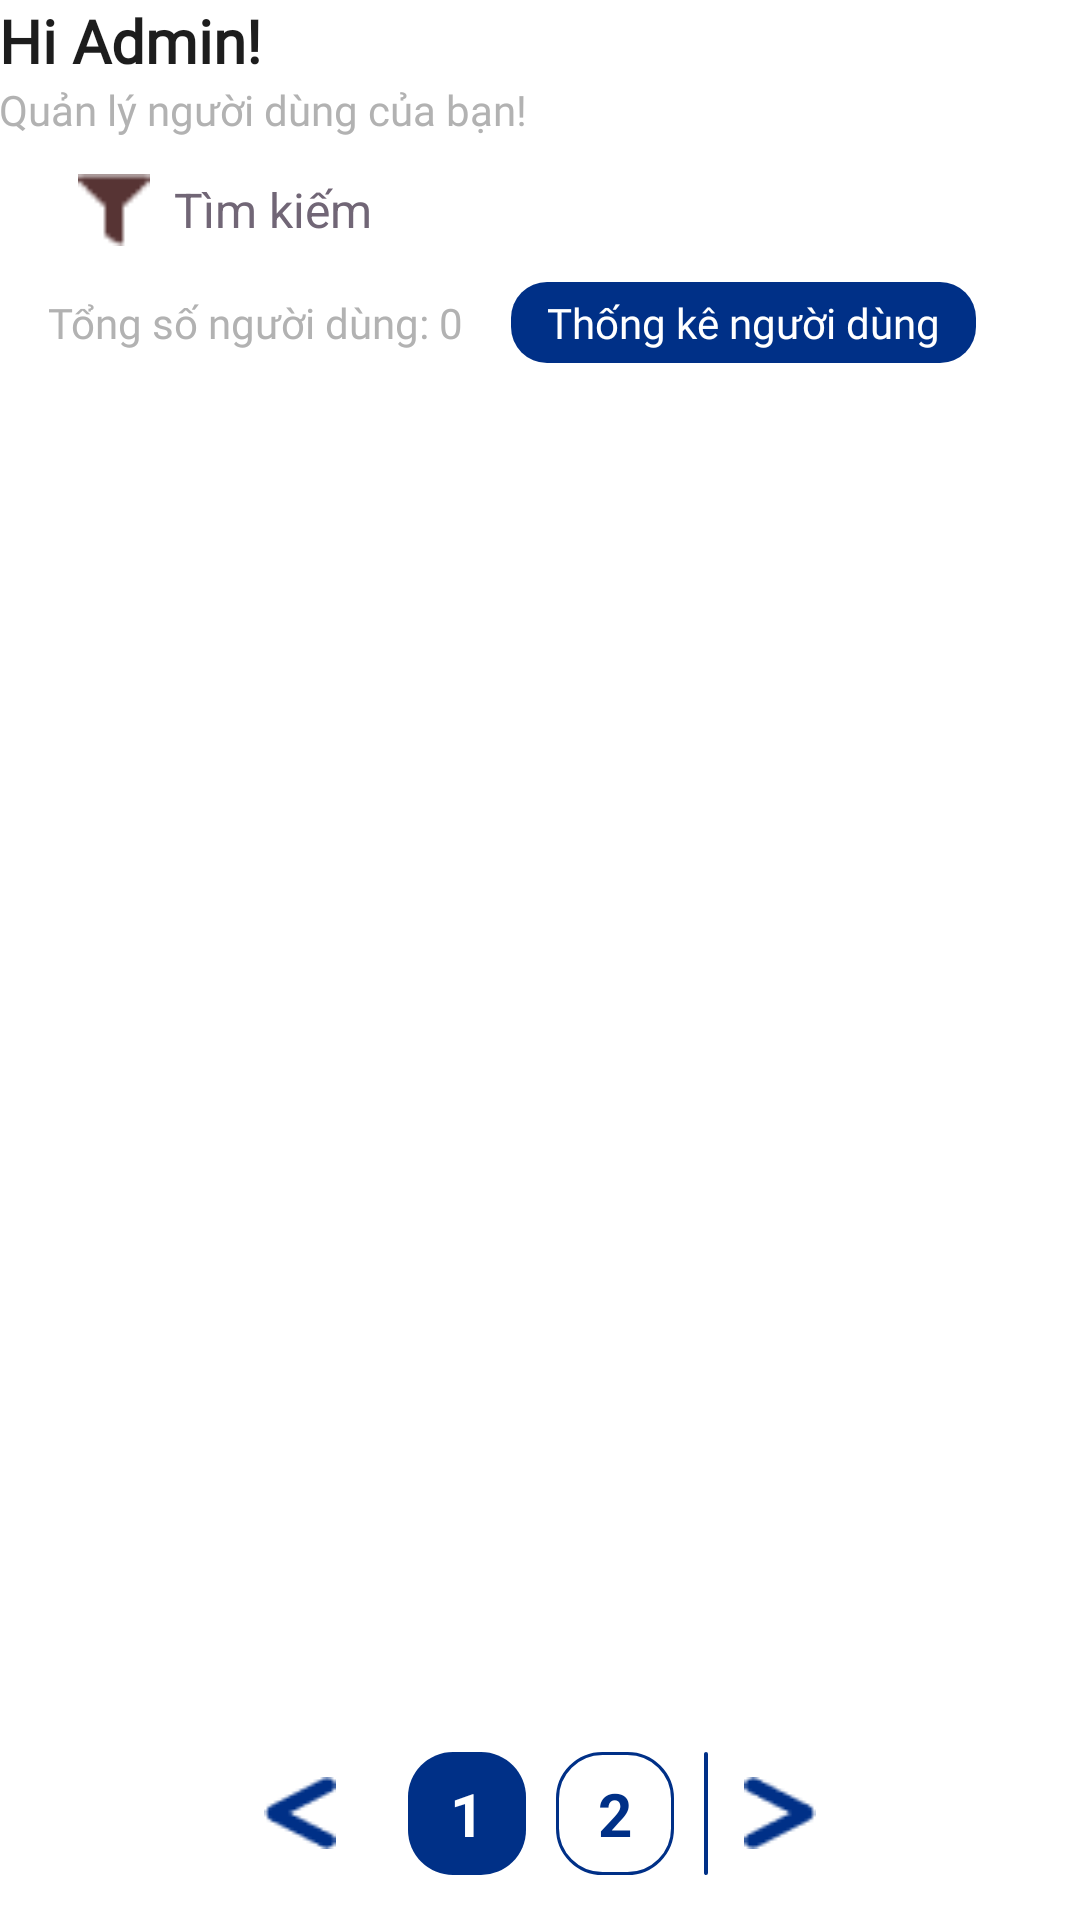

Screen size 1080×1920. Icon name, then its box in pixels as box(x1, y1, x2, y2):
Filter: box(78, 174, 150, 246)
next: box(744, 1777, 816, 1849)
pre: box(264, 1777, 336, 1849)
